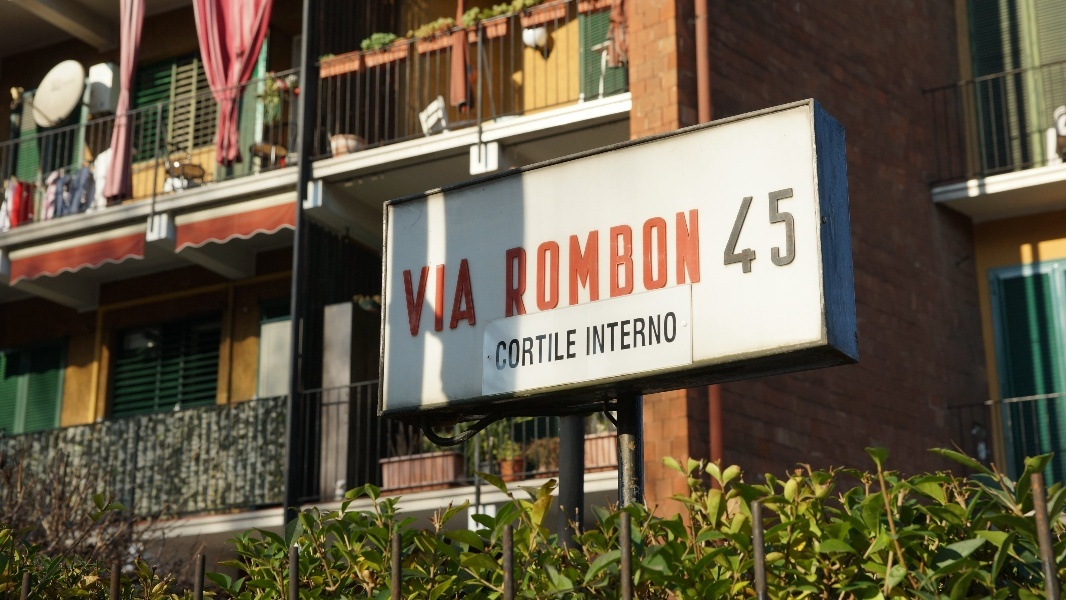text: (513, 208, 528, 319), (529, 208, 544, 319), (545, 208, 560, 319), (561, 208, 576, 319), (577, 208, 592, 319), (593, 208, 608, 319), (609, 208, 624, 319), (625, 208, 640, 319), (641, 208, 656, 319), (657, 208, 672, 319), (673, 208, 688, 319), (689, 208, 702, 319), (753, 187, 768, 282), (769, 187, 784, 282), (785, 187, 799, 282), (401, 259, 416, 339), (417, 259, 432, 339), (433, 259, 448, 339), (449, 259, 464, 339), (465, 259, 479, 339), (744, 187, 752, 282), (593, 311, 608, 357), (609, 311, 624, 357), (625, 311, 640, 357), (641, 311, 656, 357), (657, 311, 672, 357), (506, 208, 512, 319), (497, 329, 512, 373), (513, 329, 528, 373), (529, 329, 544, 373), (545, 329, 560, 373), (561, 329, 576, 373), (587, 311, 592, 357), (673, 311, 677, 357), (577, 329, 578, 373)
